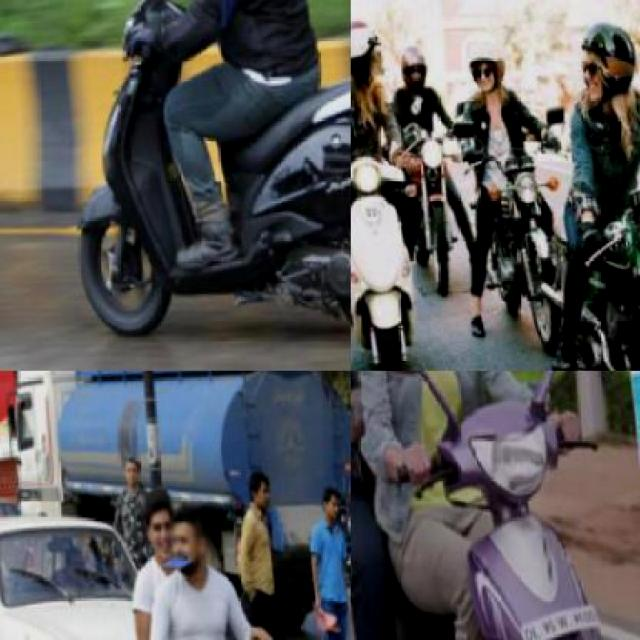With Helmet: (572, 14, 638, 109), (351, 12, 395, 97), (461, 34, 507, 100), (394, 46, 432, 96)
Without Helmet: (166, 504, 209, 562), (138, 494, 176, 551)
